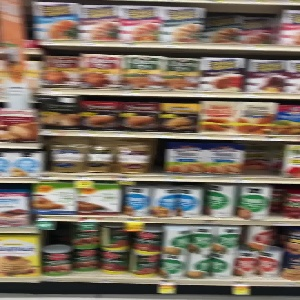void: (240, 140, 279, 178)
